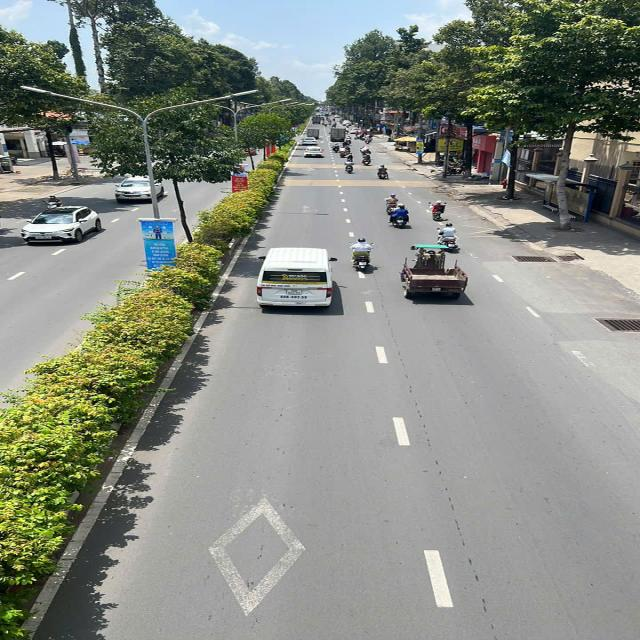ben: (328, 124, 350, 143), (304, 124, 324, 140)
car: (251, 245, 343, 312), (19, 204, 107, 247), (114, 173, 162, 208), (301, 143, 325, 159), (297, 134, 321, 146)
motobyte: (346, 236, 377, 276), (436, 222, 465, 253), (386, 203, 413, 228), (428, 198, 450, 224), (382, 191, 405, 213), (42, 192, 64, 212), (341, 158, 359, 177), (375, 163, 392, 181), (360, 150, 373, 166)
